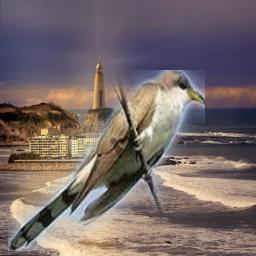Cuckoo: (8, 70, 205, 251)
